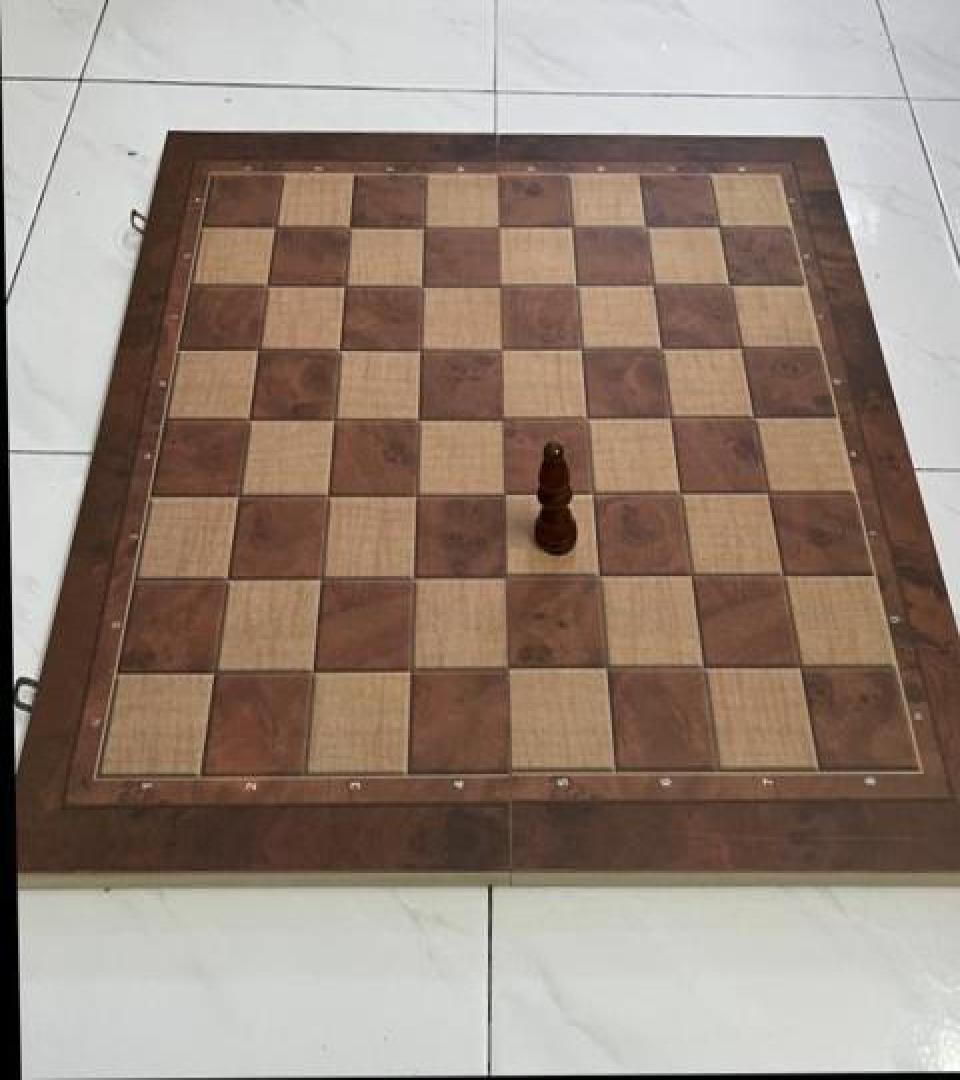xcorner: (296, 650, 330, 689), (198, 650, 232, 689), (700, 210, 734, 248), (626, 208, 660, 246), (552, 208, 586, 246), (478, 208, 512, 246), (404, 208, 438, 246), (329, 208, 363, 246), (255, 208, 289, 246), (710, 267, 744, 305), (634, 267, 668, 305), (557, 267, 591, 305), (480, 267, 514, 305), (403, 267, 437, 305), (325, 267, 359, 305), (247, 267, 281, 305), (722, 330, 756, 368), (642, 330, 676, 368), (562, 330, 596, 368), (482, 330, 516, 368), (401, 330, 435, 368), (320, 330, 354, 368), (239, 330, 273, 368), (735, 398, 769, 436), (651, 398, 685, 436), (568, 398, 602, 436), (484, 400, 518, 438), (399, 400, 433, 438), (315, 400, 349, 438), (230, 400, 264, 438), (749, 474, 783, 512), (661, 474, 695, 512), (574, 474, 608, 512), (486, 475, 520, 513), (398, 475, 432, 513), (309, 475, 343, 513), (220, 475, 254, 513), (764, 556, 798, 594), (672, 557, 706, 595), (580, 557, 614, 595), (488, 557, 522, 595), (396, 558, 430, 596), (303, 558, 337, 596), (210, 558, 244, 596), (781, 647, 815, 685), (685, 648, 719, 686), (588, 648, 622, 686), (491, 649, 525, 687), (394, 649, 428, 687)
